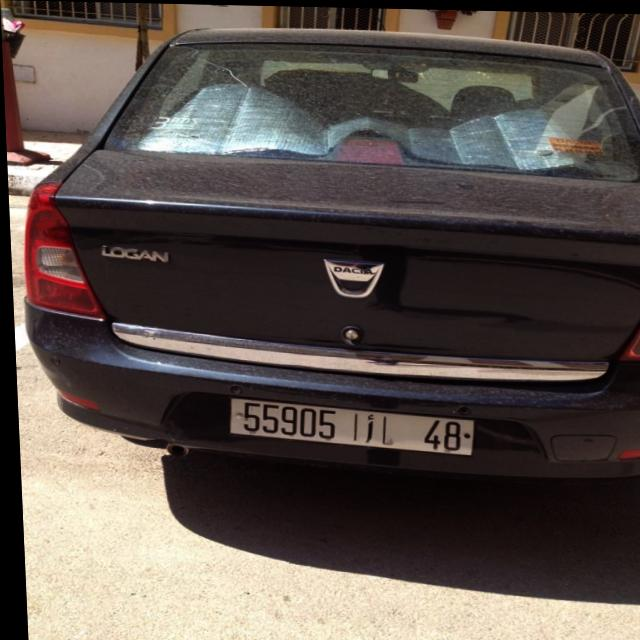License-Plate: (225, 398, 471, 453)
